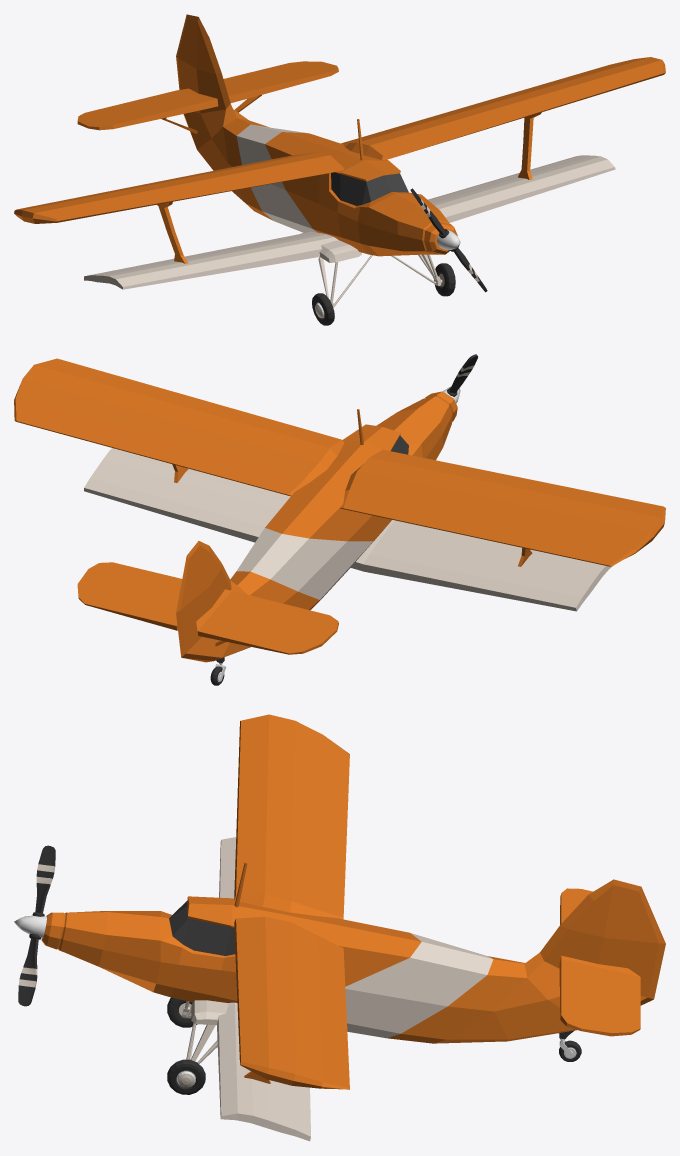
Rendered from aircraft.glb.
3 views of the same model, one above another, from view 1: azimuth 30°, elevation 25°; view 2: azimuth 150°, elevation 25°; view 3: azimuth 270°, elevation 25° (orthographic). The views are drawn at different scales.
Visible parts, largest first — view 1: an2_body, an2_front_wheels, an2_propeller; view 2: an2_body, an2_propeller; view 3: an2_body, an2_propeller, an2_front_wheels.
Boxes of the visible parts, x1,y1,x2,y2 form: an2_body: (14,14,665,307); an2_front_wheels: (312,263,455,325); an2_propeller: (410,188,487,292); an2_body: (14,358,665,680); an2_propeller: (442,354,477,403); an2_body: (41,714,665,1141); an2_propeller: (14,845,55,1006); an2_front_wheels: (167,997,205,1094).
Bounding box in the file's own units: 590 × 154 × 457.
